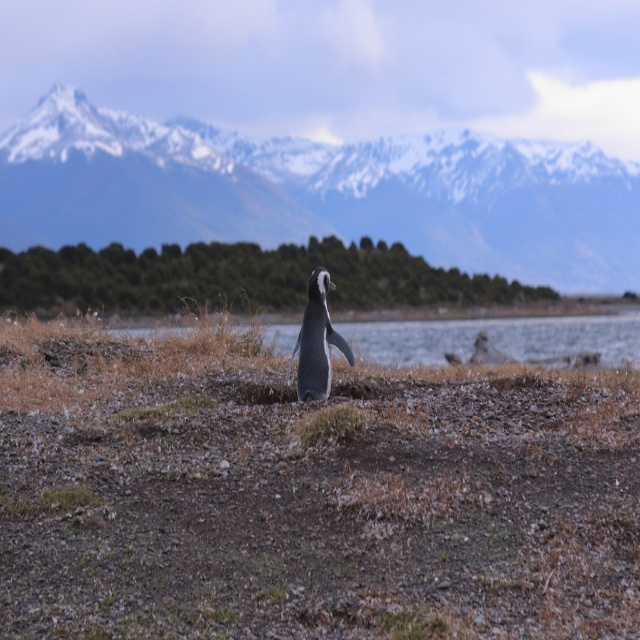Penguin: (291, 265, 353, 414)
